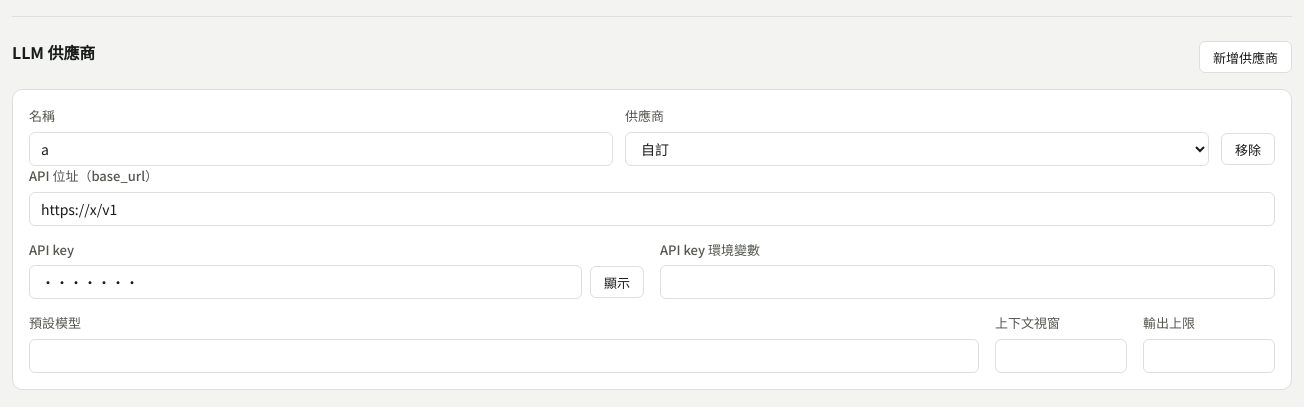
Scenario: api key field is masked with a reveal toggle
The image size is (1304, 407).
Step 1. Click the button "顯示" → (617, 282), box left=590, top=266, right=644, bottom=298
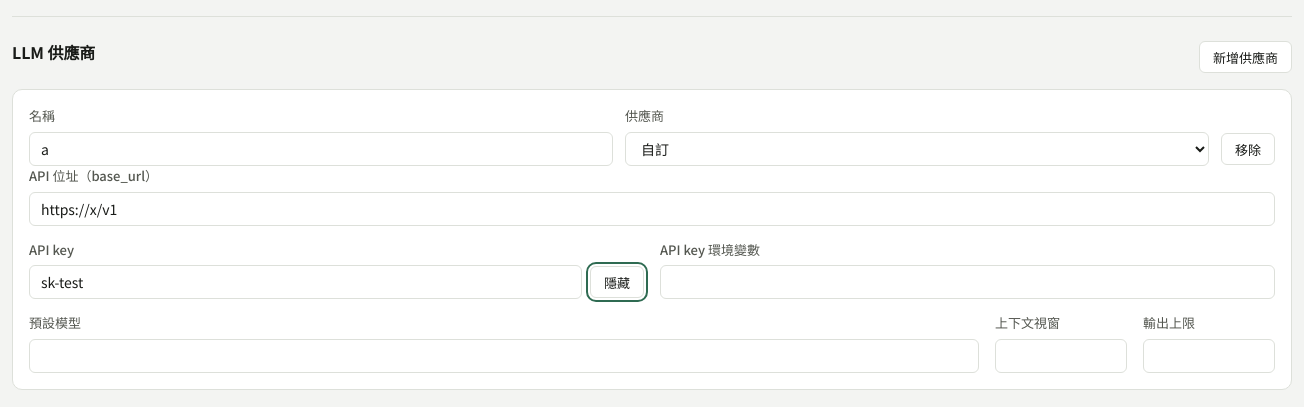
Now the field labelled "API key" shows its text, box left=29, top=265, right=582, bottom=299
